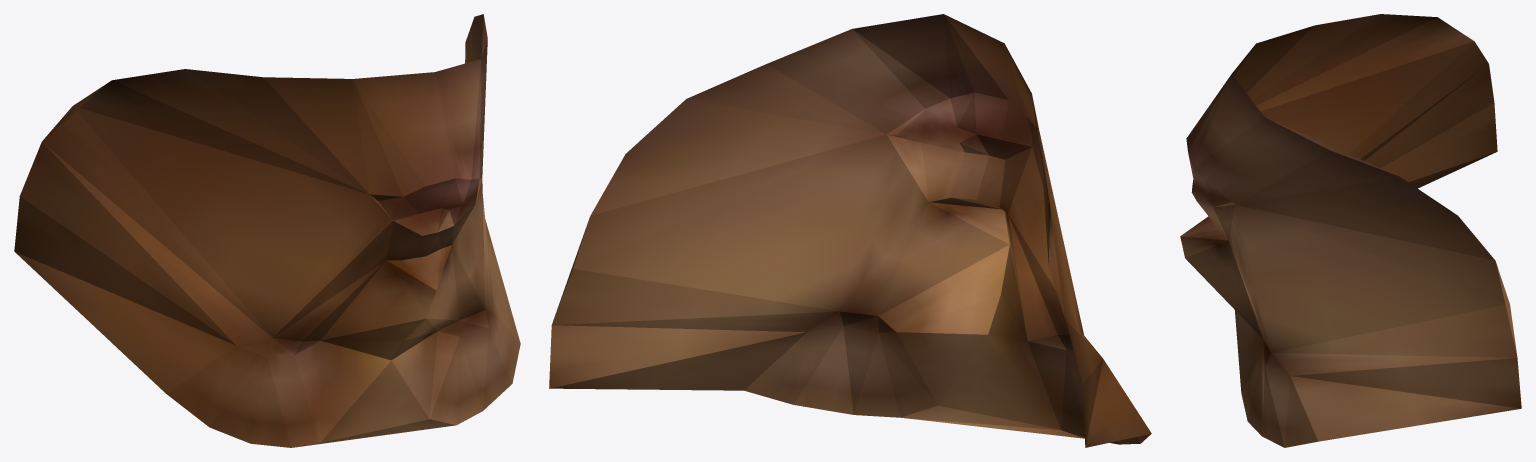
The model's file is real_17202.obj.
The picture shows the model from 3 angles, left to right: view 1: azimuth 30°, elevation 25°; view 2: azimuth 150°, elevation 25°; view 3: azimuth 270°, elevation 25°; orthographic projection. The views are drawn at different scales.
Bounding box in the file's own units: 124 × 92 × 85.28.
